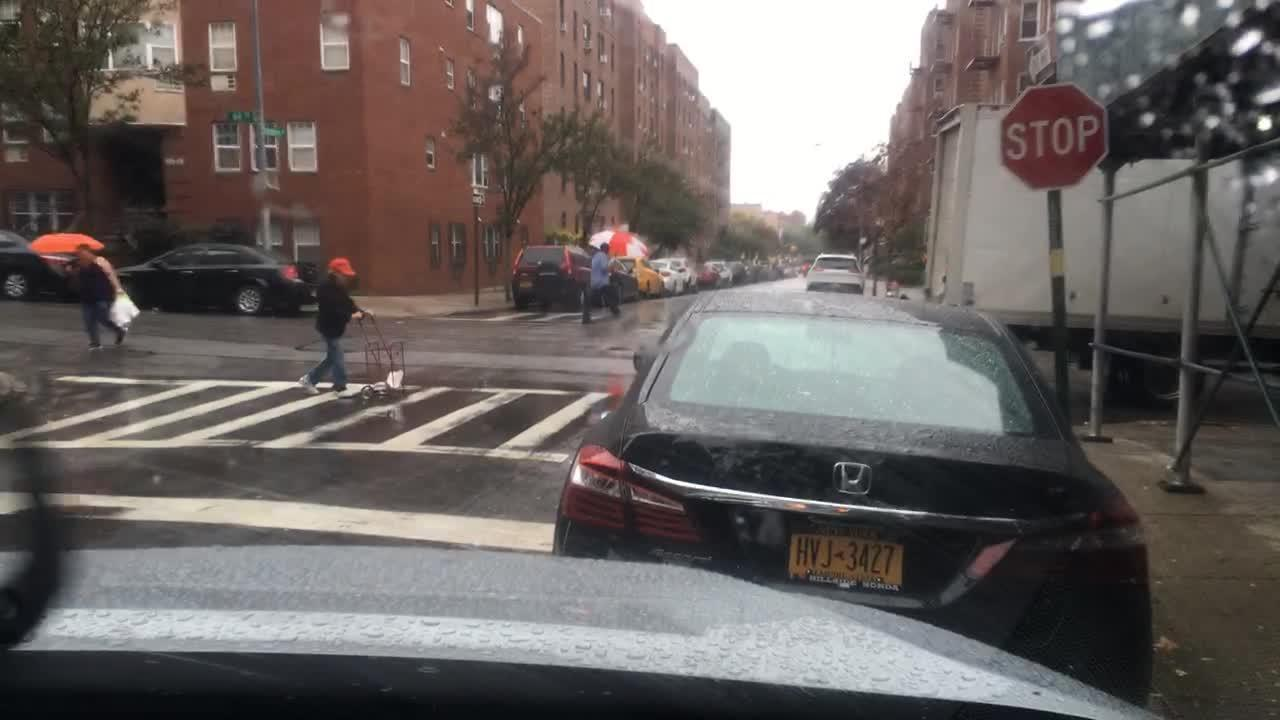-: (816, 447, 878, 510)
